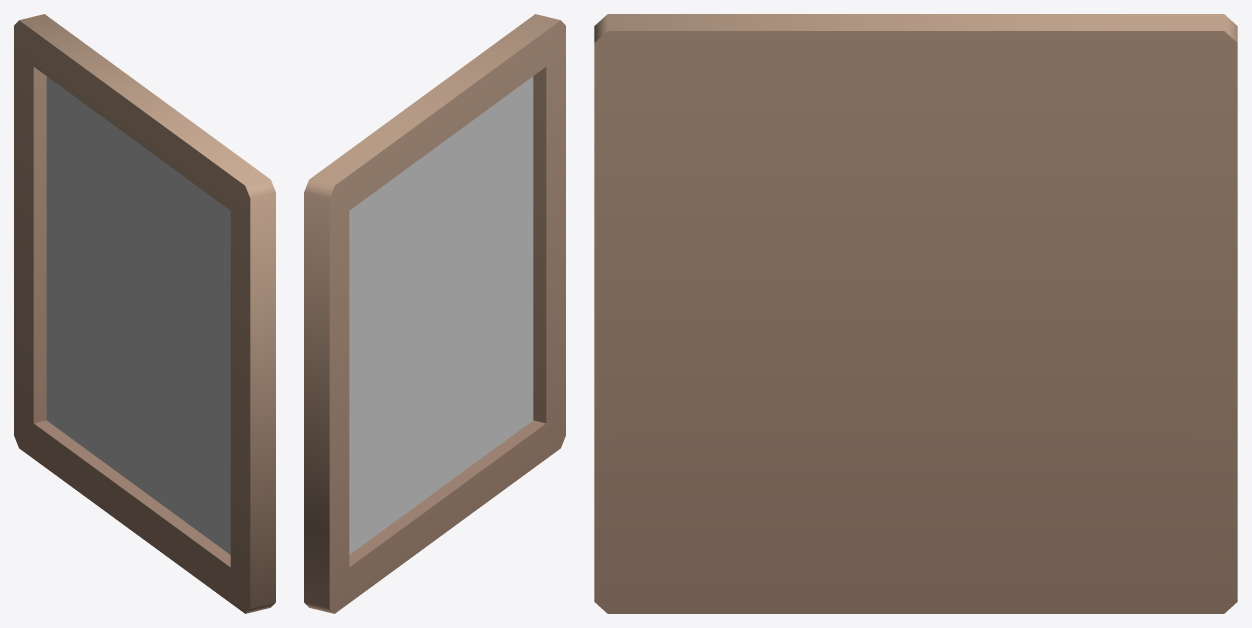
The model's file is art-frame-thick-square (%wall).glb.
The picture shows the model from 3 angles, left to right: view 1: azimuth 30°, elevation 25°; view 2: azimuth 150°, elevation 25°; view 3: azimuth 270°, elevation 25°; orthographic projection. The views are drawn at different scales.
Parts seen in each view (by area): view 1: art-frame-thick-square (%wall); view 2: art-frame-thick-square (%wall); view 3: art-frame-thick-square (%wall).
Part boxes in pixels (x1,y1,x2,y2): art-frame-thick-square (%wall): (14, 14, 275, 613); art-frame-thick-square (%wall): (304, 14, 565, 613); art-frame-thick-square (%wall): (594, 14, 1237, 613).
Size of the model in its own units: 0.075 by 1.2 by 1.2.
